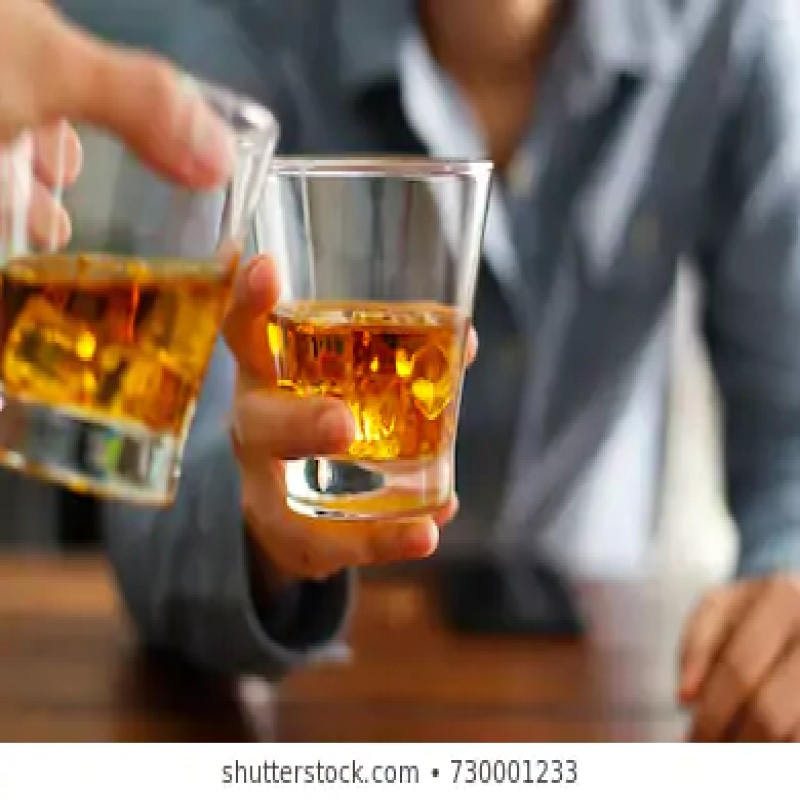whiskey: (264, 143, 499, 522), (19, 58, 205, 500)
